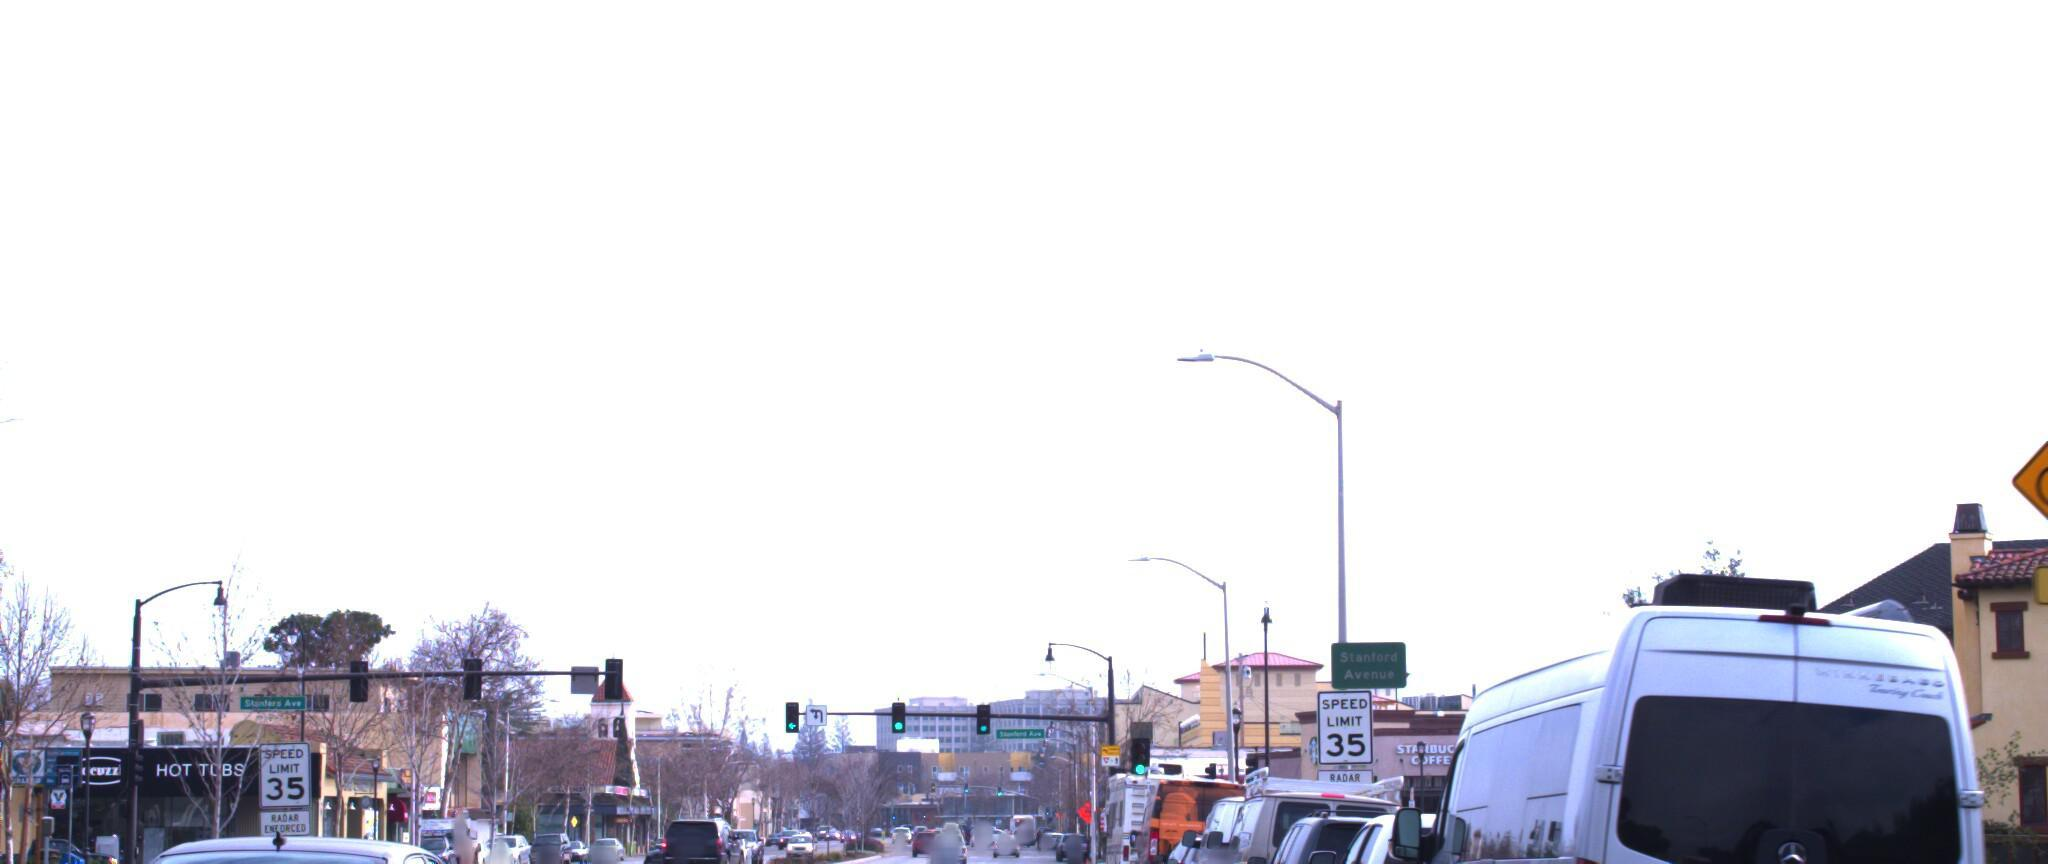car: (1371, 572, 2022, 864), (21, 810, 564, 864), (1209, 745, 1426, 864), (1284, 794, 1635, 864), (1238, 788, 1477, 864), (1183, 770, 1366, 864), (1128, 754, 1262, 864), (1599, 850, 2048, 864)
other_vehicle: (1101, 736, 1245, 864)
